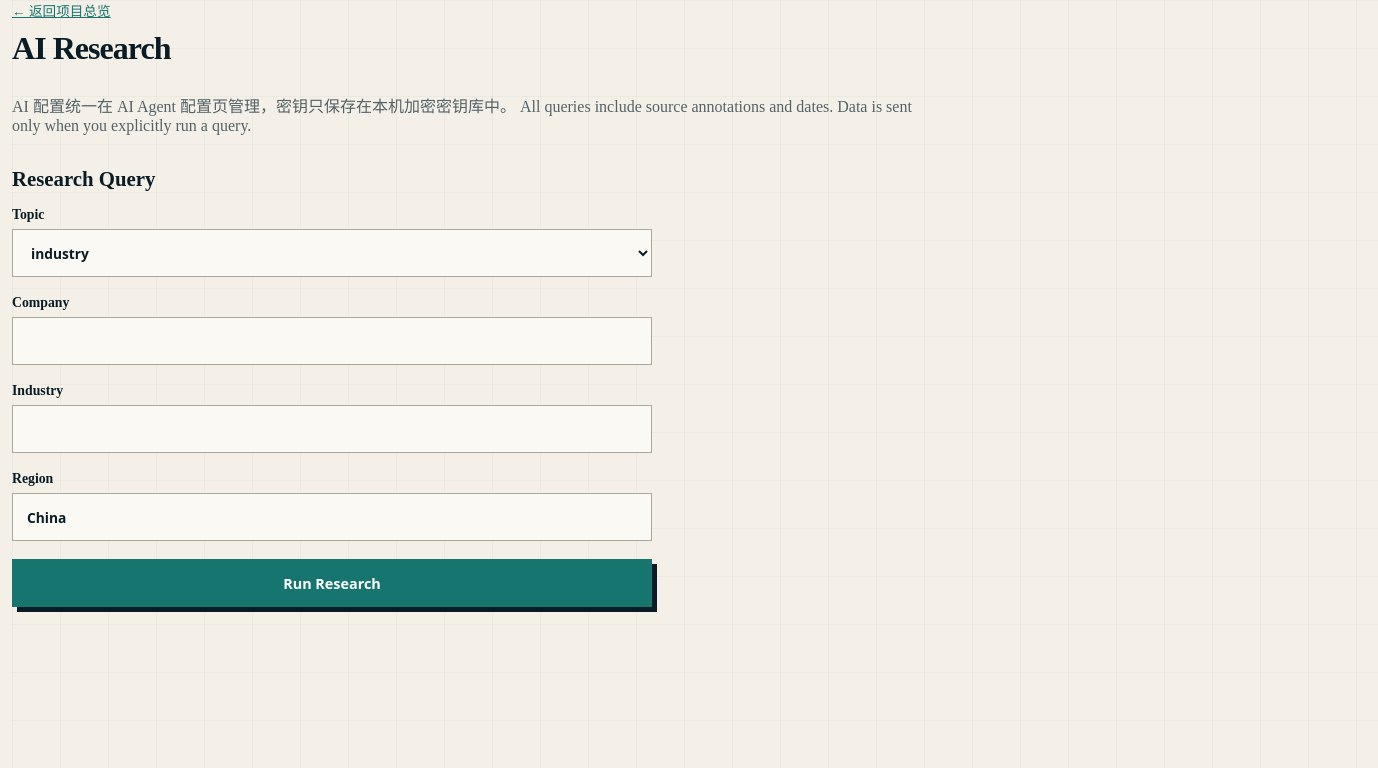
ResearchPage via AI Gateway › runs the due_diligence.research task through the Gateway without touching any Key
This screenshot has width=1378, height=768.
Type "测试公司" into the field labelled "Company" at {"x": 332, "y": 341}, box [12,317,652,365]
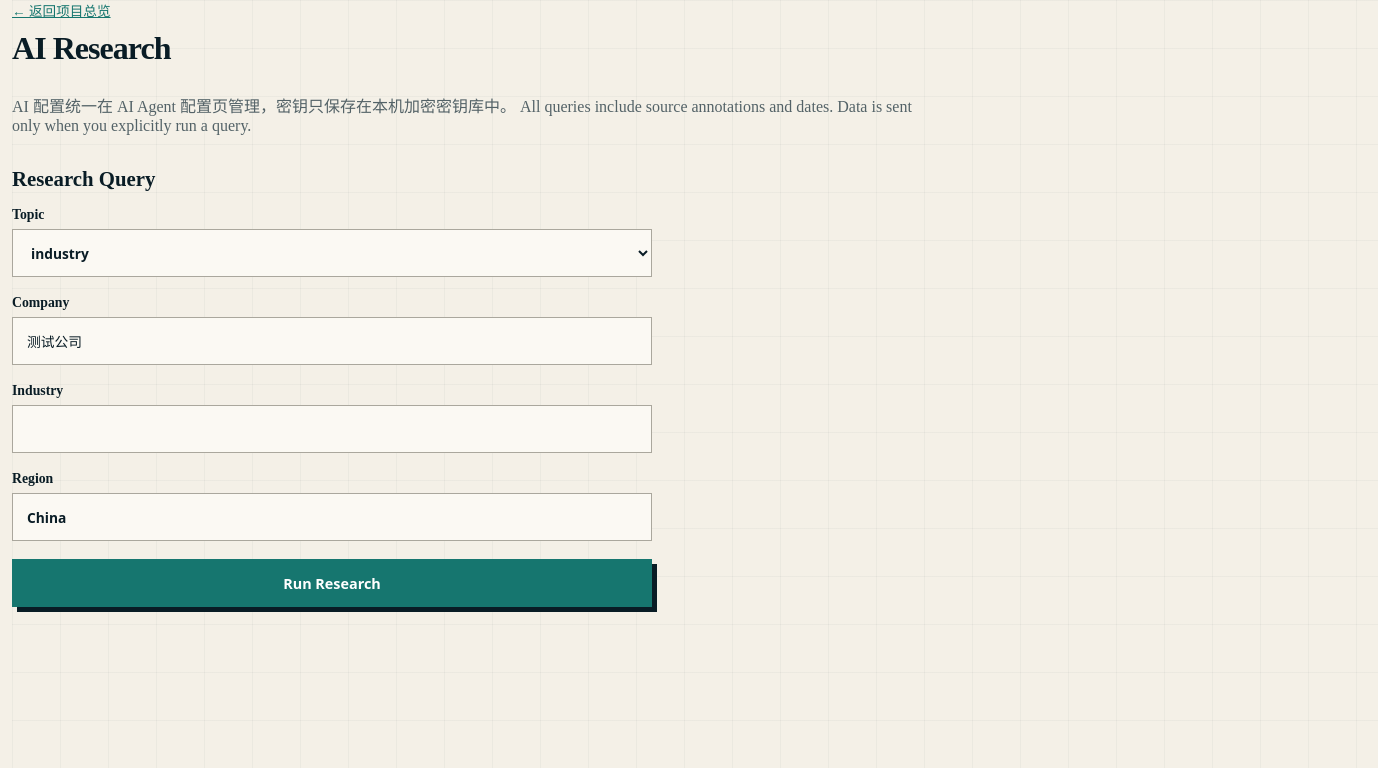
Click the button "Run Research" at {"x": 332, "y": 583}, box [12,559,652,607]
(page scrolled)
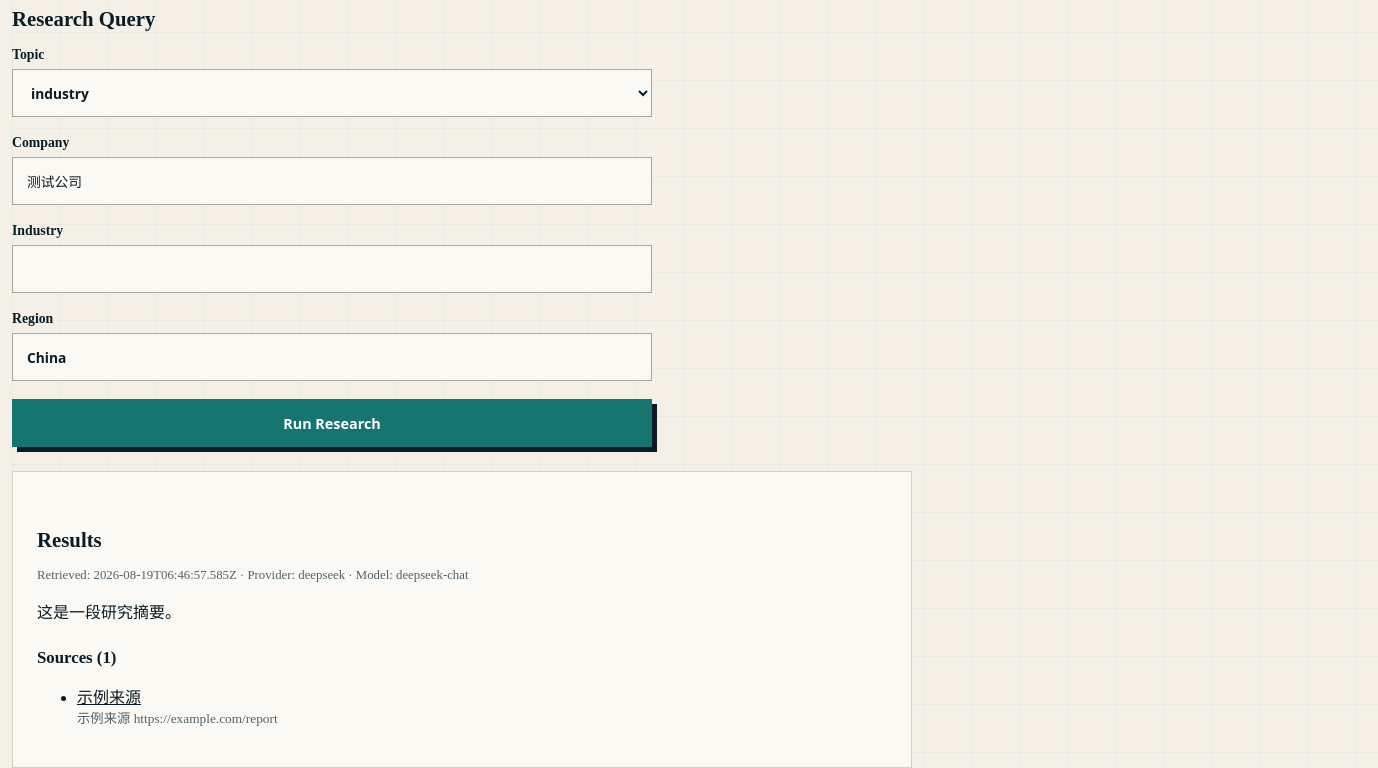
expect the text "这是一段研究摘要。" is shown: met, box [37,604,181,621]
